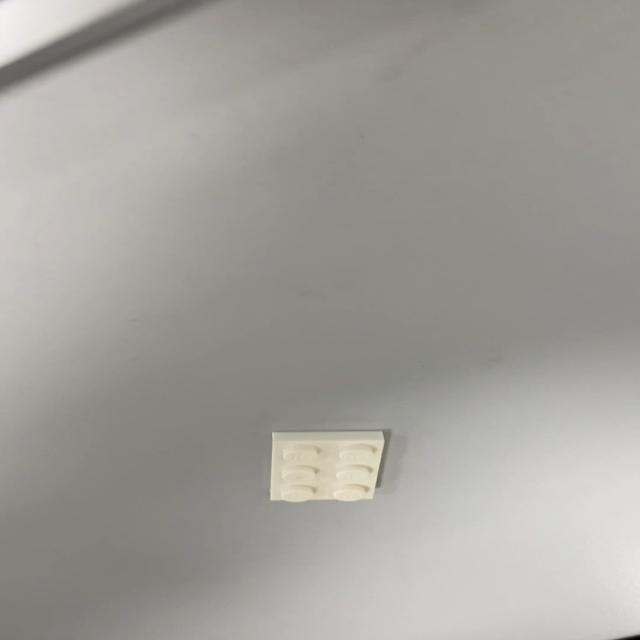C3x2x0: (268, 429, 386, 503)
